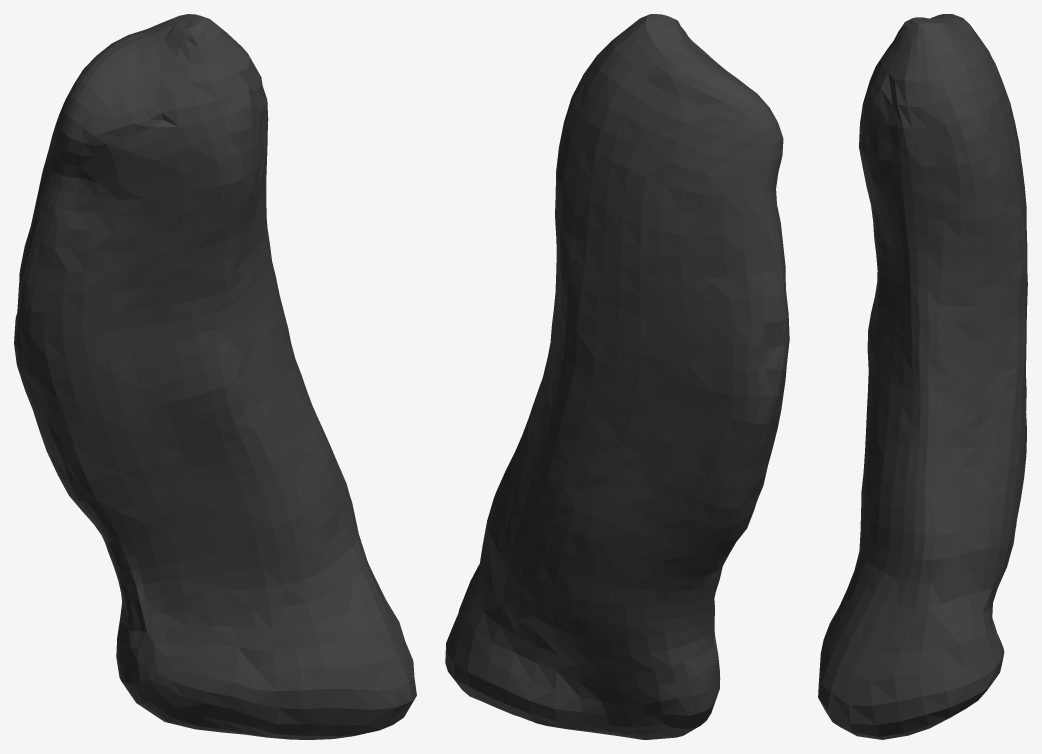
File: tarsal_I_L.glb
The picture shows the model from 3 angles, left to right: view 1: azimuth 30°, elevation 25°; view 2: azimuth 150°, elevation 25°; view 3: azimuth 270°, elevation 25°; orthographic projection. The views are drawn at different scales.
Visible parts, largest first — view 1: tarsal_I_L; view 2: tarsal_I_L; view 3: tarsal_I_L.
Boxes of the visible parts, bbox=[...] form: tarsal_I_L: bbox=[14, 14, 416, 739]; tarsal_I_L: bbox=[445, 14, 789, 739]; tarsal_I_L: bbox=[818, 14, 1027, 739].
Bounding box in the file's own units: 0.0123 × 0.0245 × 0.00715.
1 material, 1 textured.
